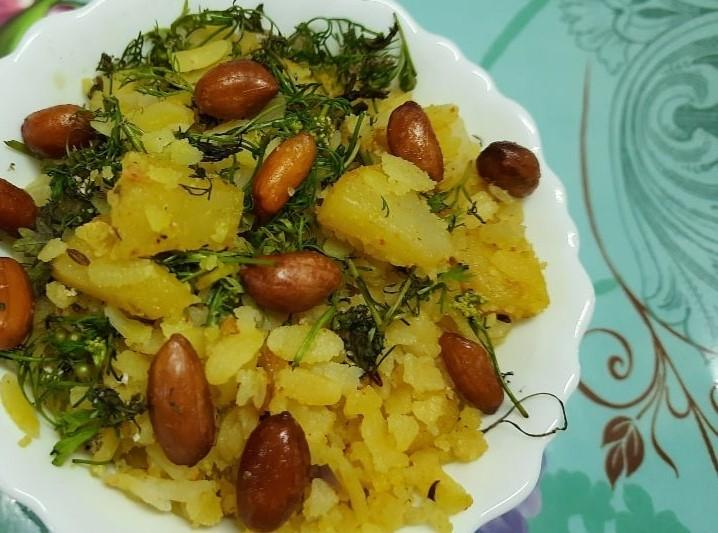Poha: (2, 0, 553, 533)
